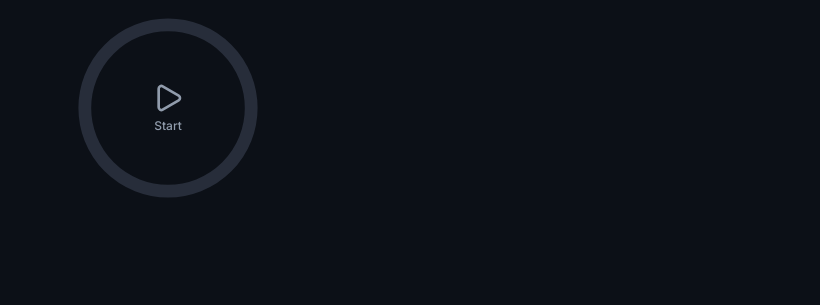
B350 — a rest before timed work restarts on its own › starts the next timed set hands-free when the rest ends under our eyes
Click the button "Start".
click(168, 108)  # box [152,82,184,134]
Wait 67000 ms
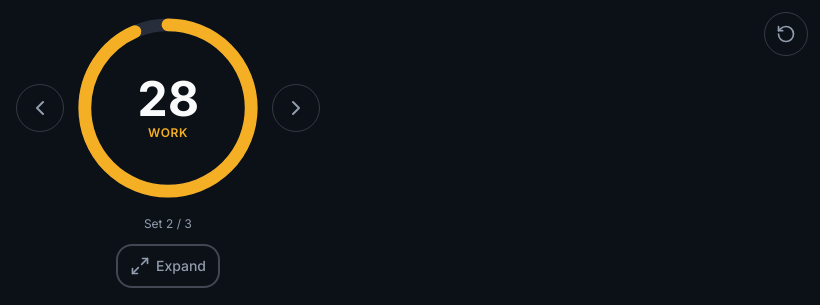
Check: the text "Set 2 / 3" is shown, box [144,216,192,232]
